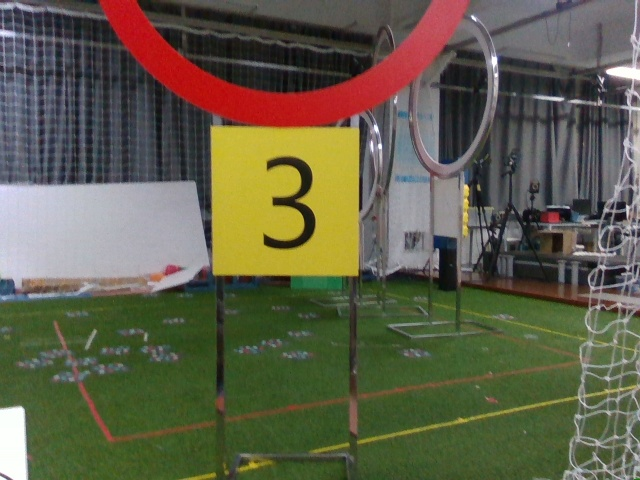target: (210, 131, 353, 266)
